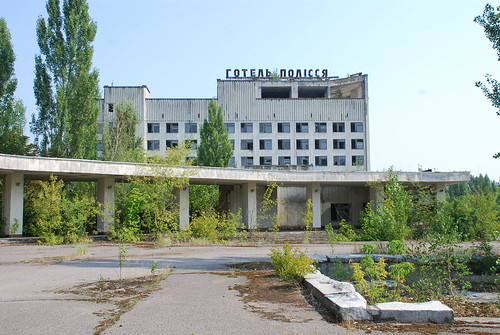building: (98, 67, 368, 226)
sky: (100, 1, 496, 71), (375, 1, 494, 172)
tree: (34, 1, 101, 200)
